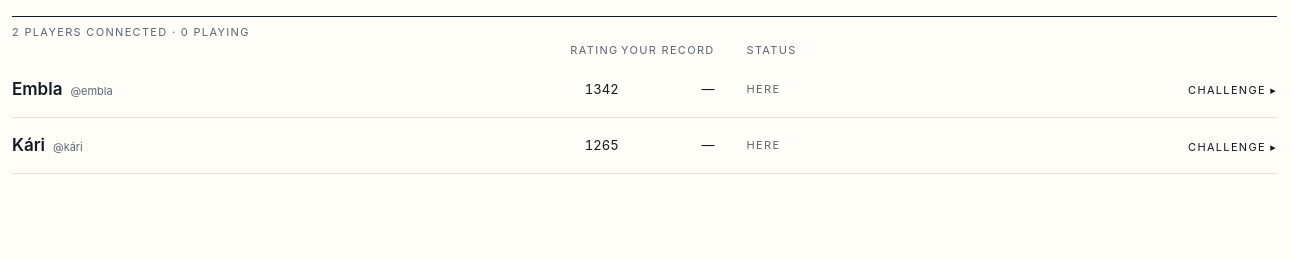
Test case: the composer row › opens Embla's row in place with the terms and stakes, and focuses send
Click the button with aria-label "Embla · challenge" at [1232, 90], box [1188, 78, 1277, 102]
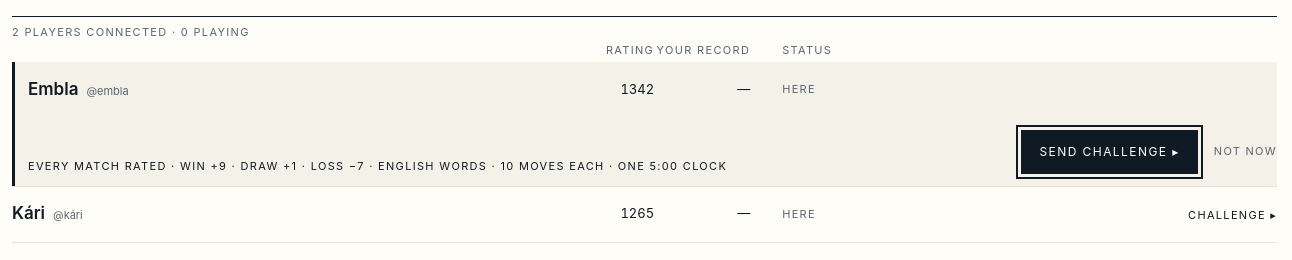
Check: the button "not now" is shown, box [1214, 140, 1277, 164]
